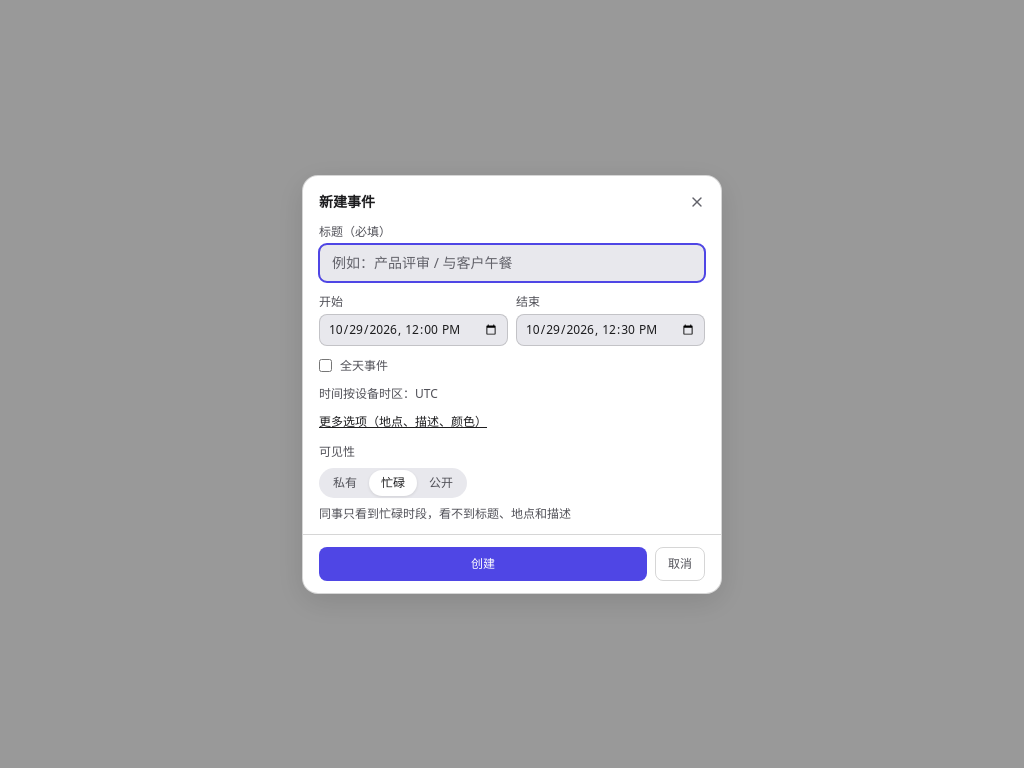
Test: EventEditor 新建模式（回归：点“新增”无法录入文字） › 空标题不允许提交，并给出提示
Click the button "创建". click: (483, 564)
box: [319,546,647,580]
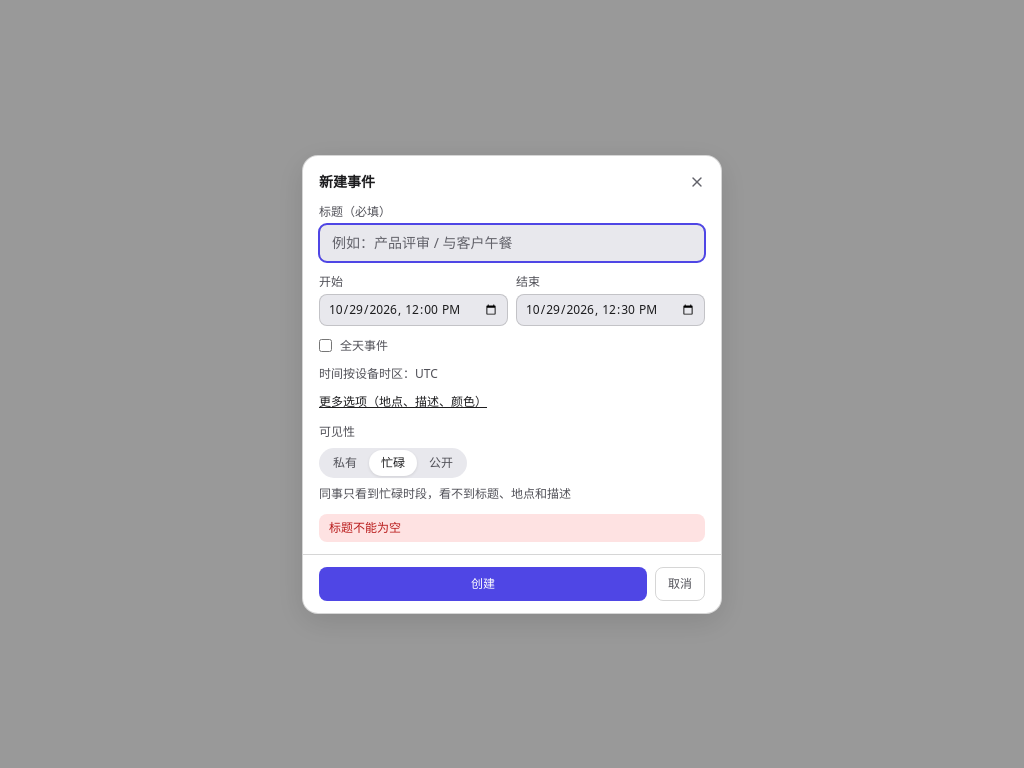
expect the text "标题不能为空" is shown: met, box [319,514,705,542]
